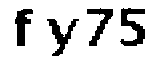5: (117, 5, 149, 51)
7: (83, 7, 114, 50)
f: (9, 5, 35, 54)
y: (43, 15, 85, 60)
